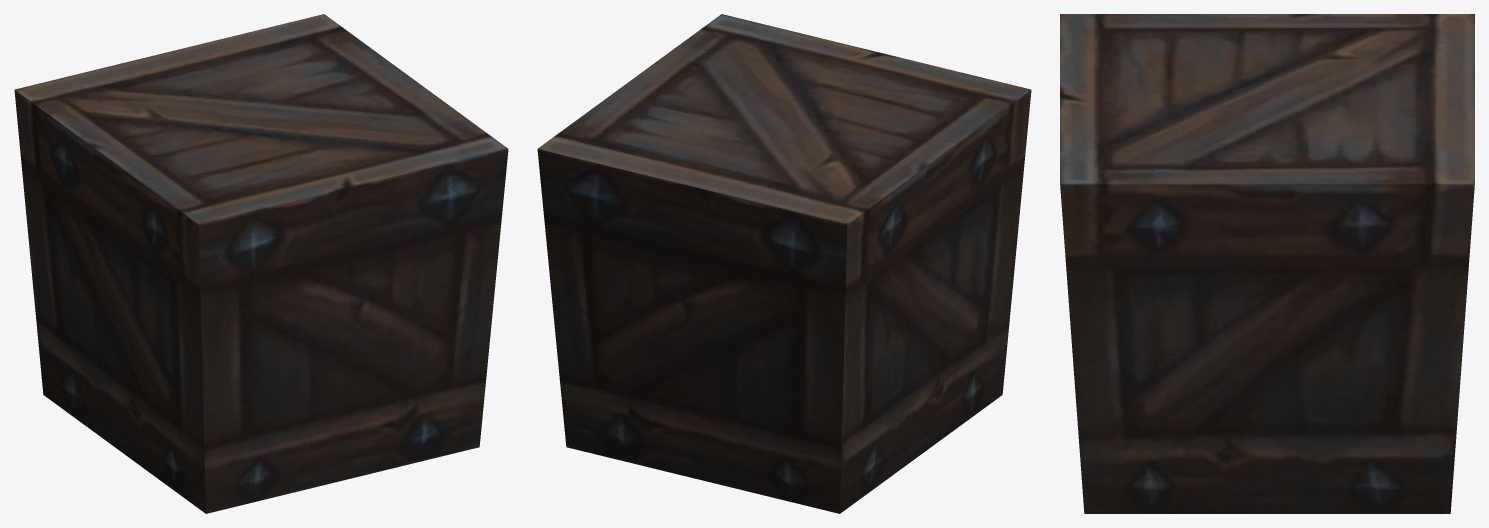
The model's file is mine_crate01.fbx.
3 renders of one model, left to right at view 1: azimuth 30°, elevation 25°; view 2: azimuth 150°, elevation 25°; view 3: azimuth 270°, elevation 25°, orthographic. The views are drawn at different scales.
Parts seen in each view (by area): view 1: mine_crate01; view 2: mine_crate01; view 3: mine_crate01.
Part boxes in pixels (<box>): mine_crate01: <box>14,14,508,513</box>; mine_crate01: <box>537,14,1031,513</box>; mine_crate01: <box>1060,14,1474,513</box>.
Size of the model in its own units: 1.19 by 1.11 by 1.23.
